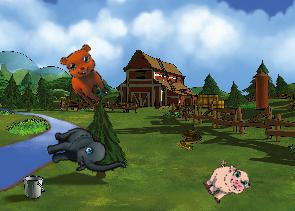bear: (53, 39, 121, 109)
elephant: (42, 115, 126, 190)
pig: (198, 155, 254, 210)
